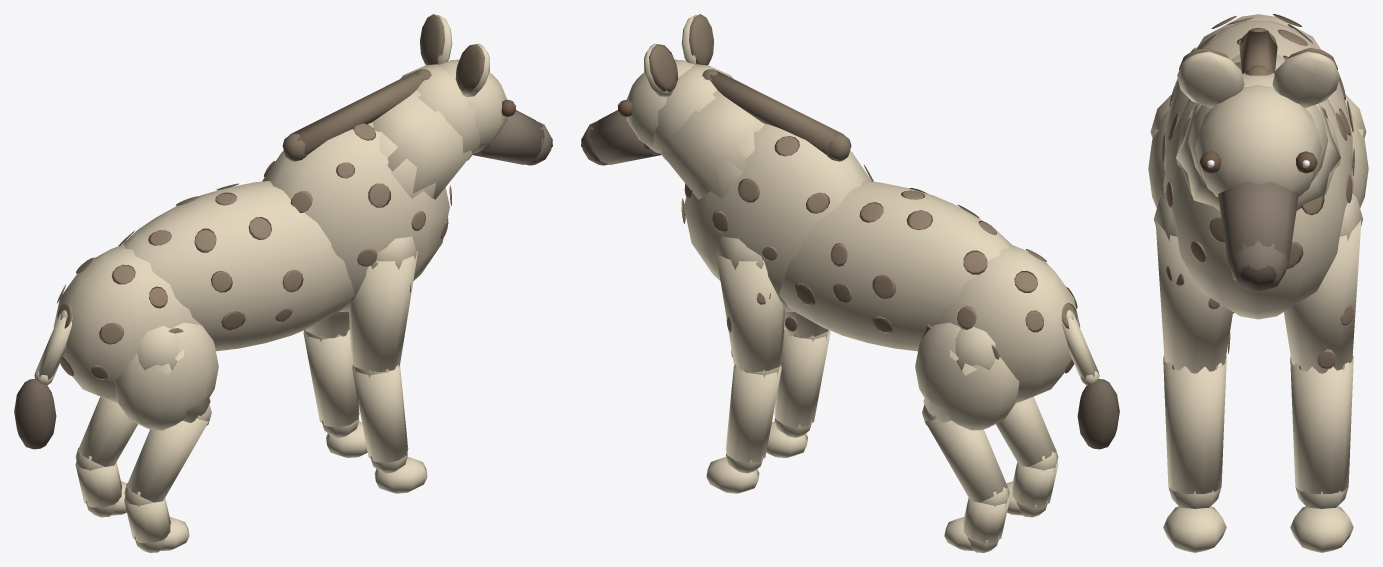
Rendered from spotted-hyena.glb.
3 views of the same model, side by side, from view 1: azimuth 30°, elevation 25°; view 2: azimuth 150°, elevation 25°; view 3: azimuth 270°, elevation 25° (orthographic). The views are drawn at different scales.
Parts seen in each view (by area): view 1: e, e.068, e.058, e.108, e.081, e.091, e.120; view 2: e, e.091, e.081, e.108, e.058, e.068, e.120; view 3: e, e.108, e.058, e.081, e.068, e.091.
Part boxes in pixels (<box>): e: <box>53,64,480,403</box>; e.068: <box>114,322,218,552</box>; e.058: <box>349,236,427,493</box>; e.108: <box>420,14,552,165</box>; e.081: <box>303,311,367,457</box>; e.091: <box>75,397,137,517</box>; e.120: <box>14,310,72,449</box>; e: <box>653,64,1080,403</box>; e.091: <box>915,322,1019,552</box>; e.081: <box>706,236,784,493</box>; e.108: <box>581,14,713,165</box>; e.058: <box>766,311,830,457</box>; e.068: <box>996,397,1058,517</box>; e.120: <box>1061,310,1119,449</box>; e: <box>1162,14,1354,319</box>; e.108: <box>1177,48,1339,292</box>; e.058: <box>1153,192,1233,552</box>; e.081: <box>1284,193,1363,552</box>; e.068: <box>1148,95,1171,207</box>; e.091: <box>1345,95,1368,207</box>.
Bounding box in the file's own units: 1.27 × 0.9571 × 0.347.
